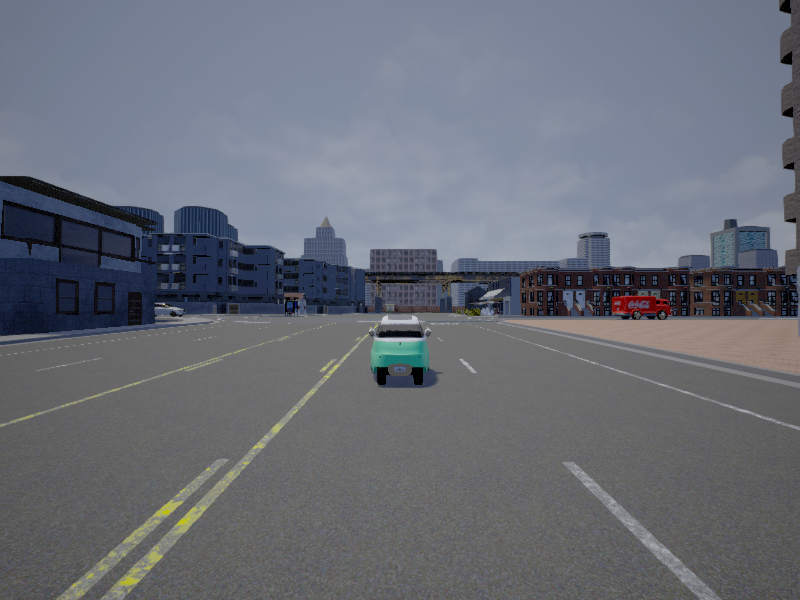Benign: (368, 312, 431, 387), (610, 296, 670, 320), (151, 301, 184, 317)
